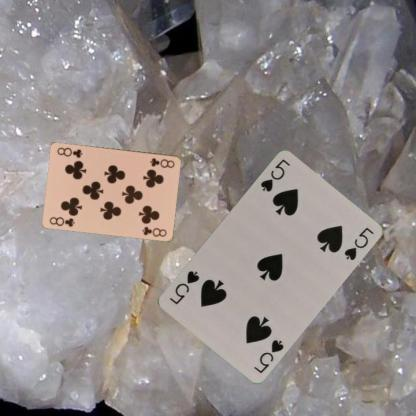5s: (251, 336, 285, 374), (258, 156, 291, 193)
8c: (48, 213, 76, 228), (147, 155, 176, 169)
